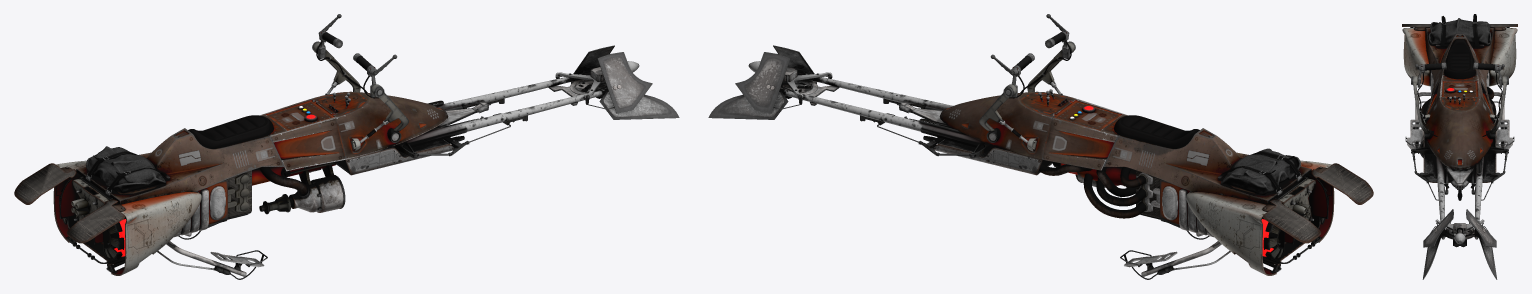
The model's file is SpeederBike.glb.
3 views of the same model, side by side, from view 1: azimuth 30°, elevation 25°; view 2: azimuth 150°, elevation 25°; view 3: azimuth 270°, elevation 25° (orthographic). The views are drawn at different scales.
Parts seen in each view (by area): view 1: Object_4, Object_2, Object_3, Object_5; view 2: Object_4, Object_3, Object_2; view 3: Object_4, Object_2, Object_3, Object_5.
Boxes of the visible parts, x1,y1,x2,y2 form: Object_4: (53,30,621,275); Object_2: (14,14,679,276); Object_3: (54,40,639,279); Object_5: (61,151,309,258); Object_4: (779,30,1334,275); Object_3: (748,38,1333,279); Object_2: (708,14,1373,276); Object_4: (1407,24,1512,279); Object_2: (1402,18,1517,278); Object_3: (1402,16,1517,247); Object_5: (1412,14,1507,78).
Size of the model in its own units: 378 by 112 by 80.19.
1 material, 1 textured.
